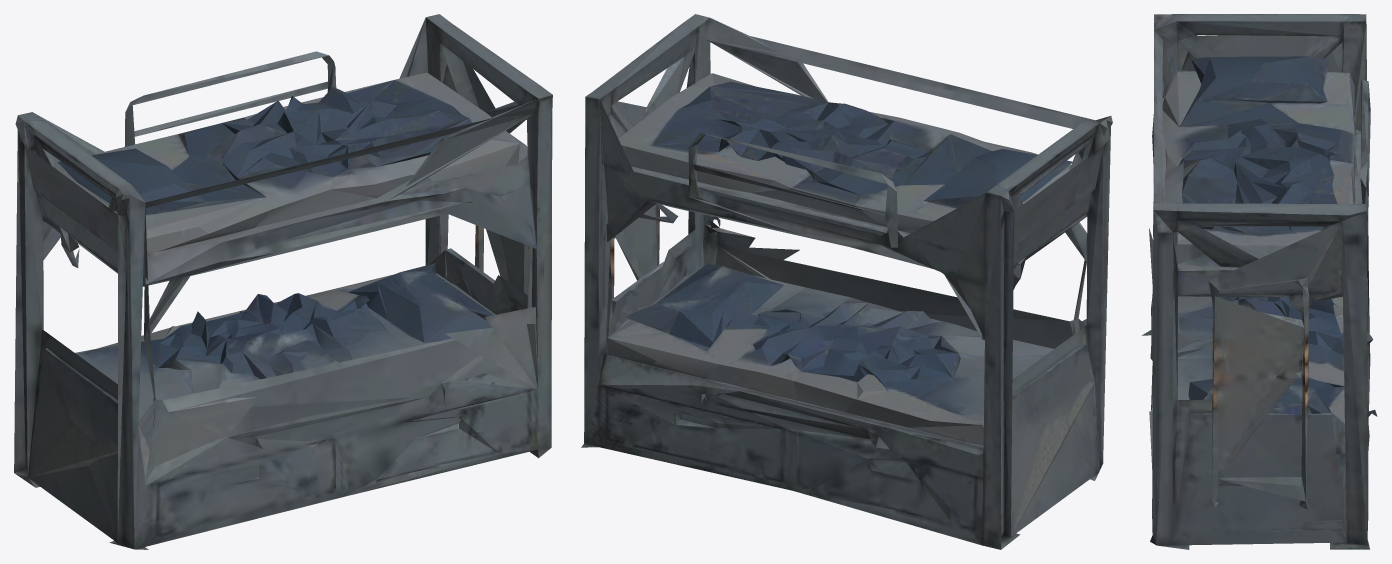
File: bunk.glb
3 views of the same model, side by side, from view 1: azimuth 30°, elevation 25°; view 2: azimuth 150°, elevation 25°; view 3: azimuth 270°, elevation 25° (orthographic). The views are drawn at different scales.
Parts seen in each view (by area): view 1: Mesh_0; view 2: Mesh_0; view 3: Mesh_0.
Boxes of the visible parts, box(x1,y1,x2,y2) form: Mesh_0: box(14, 14, 552, 549); Mesh_0: box(581, 14, 1112, 549); Mesh_0: box(1142, 14, 1377, 549).
Size of the model in its own units: 2.1 by 1.64 by 1.03.
Materials: 1 (1 with a texture image).
